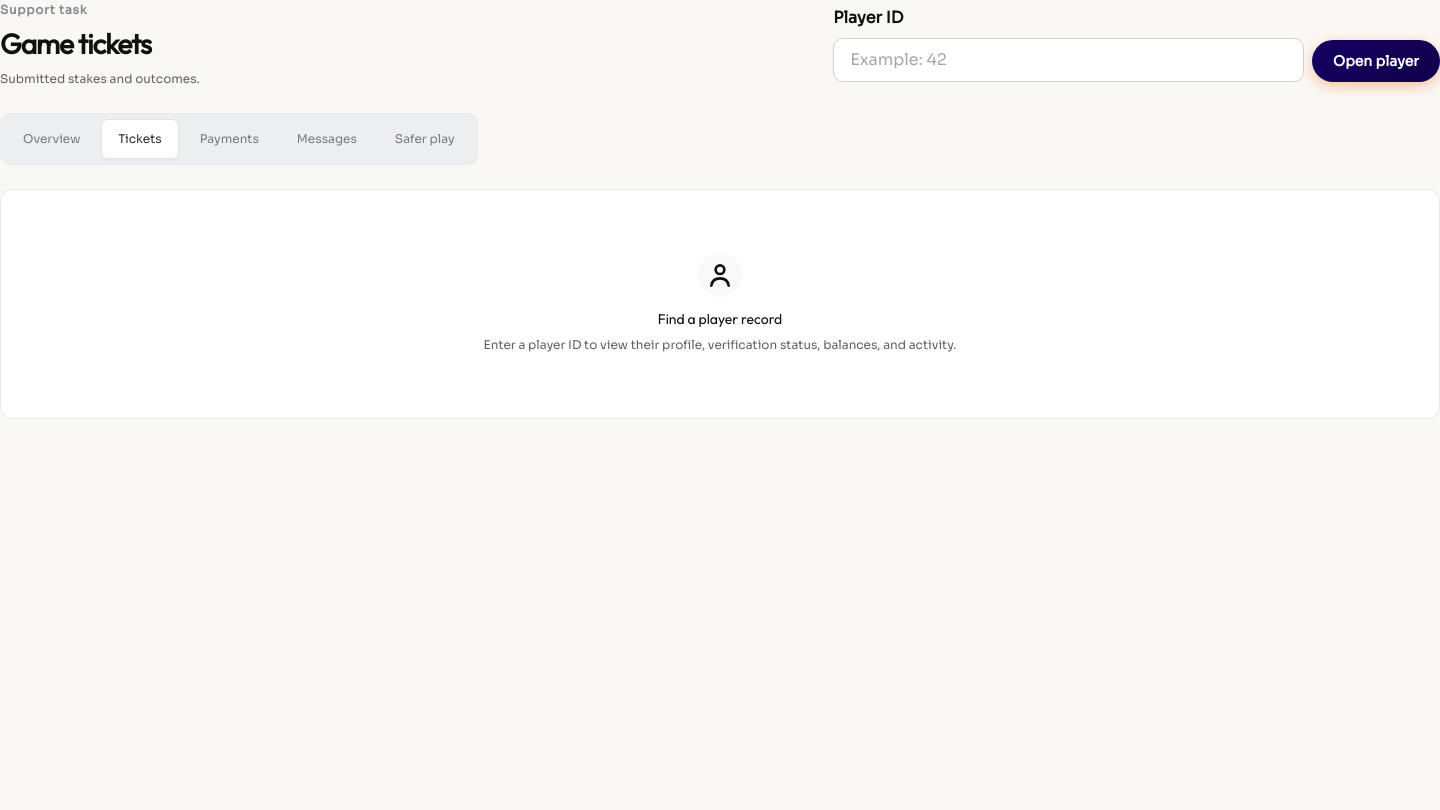
Test: Player360 › shows only real ticket data on the tickets view, never a support-case narrative that has no backend
This screenshot has width=1440, height=810.
In the search field labelled "Player ID": (1069, 60) [833,38,1304,82], type "42"
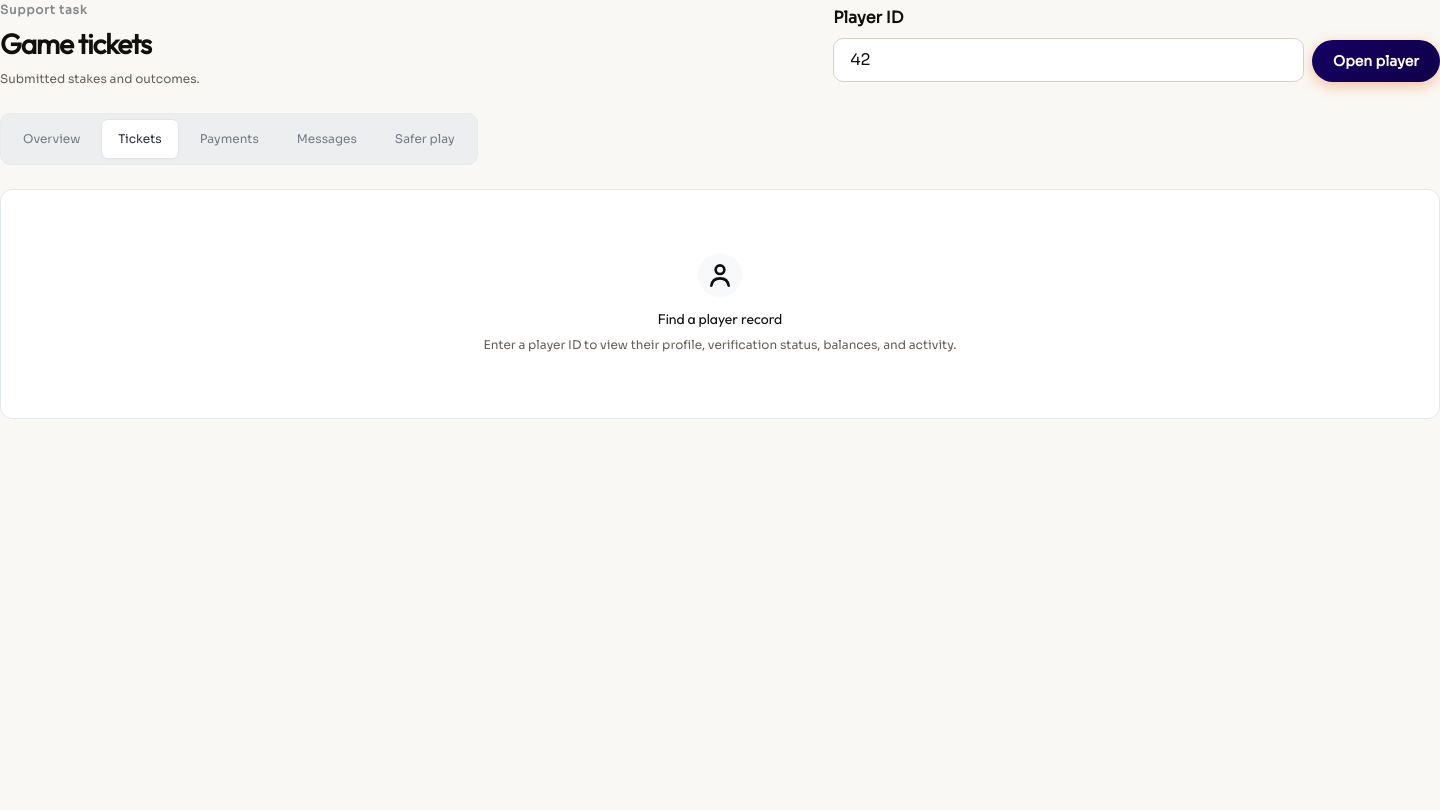
Click the button "Open player": (1376, 62) [1312,40,1439,82]
(page scrolled)
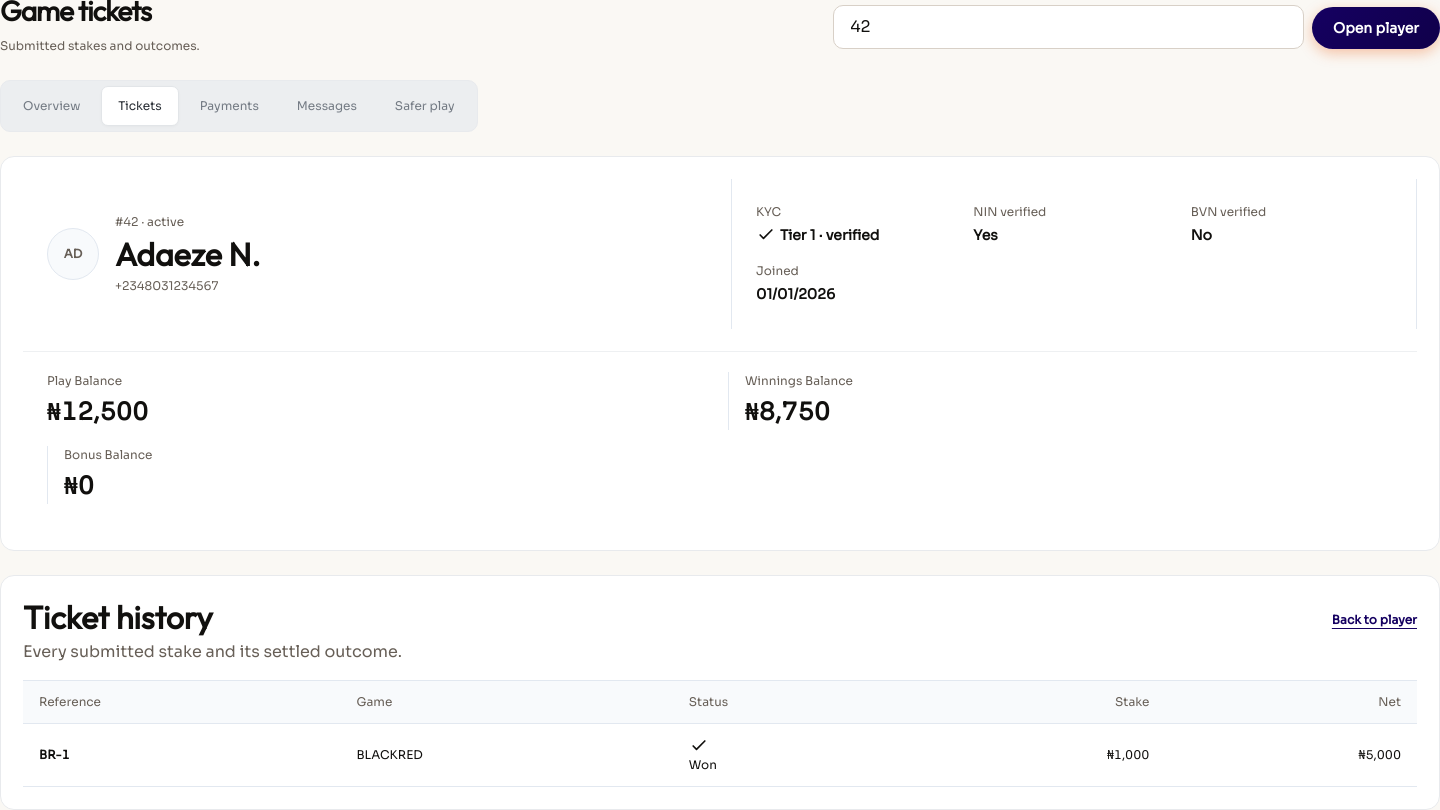
Check: the heading "Ticket history" is shown, box [23,597,213,637]
Check: the column heading "BR-1" is shown, box [23,724,340,786]
